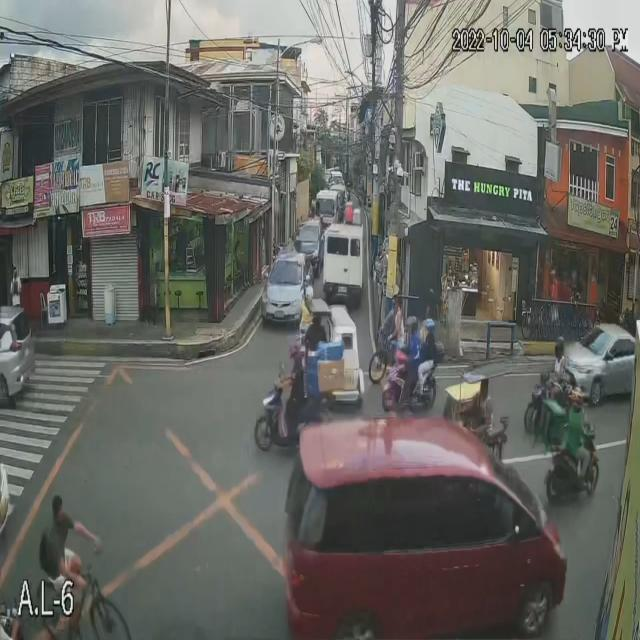full: (571, 384, 585, 412), (289, 336, 301, 362)
half: (425, 316, 435, 336), (406, 314, 416, 332)
